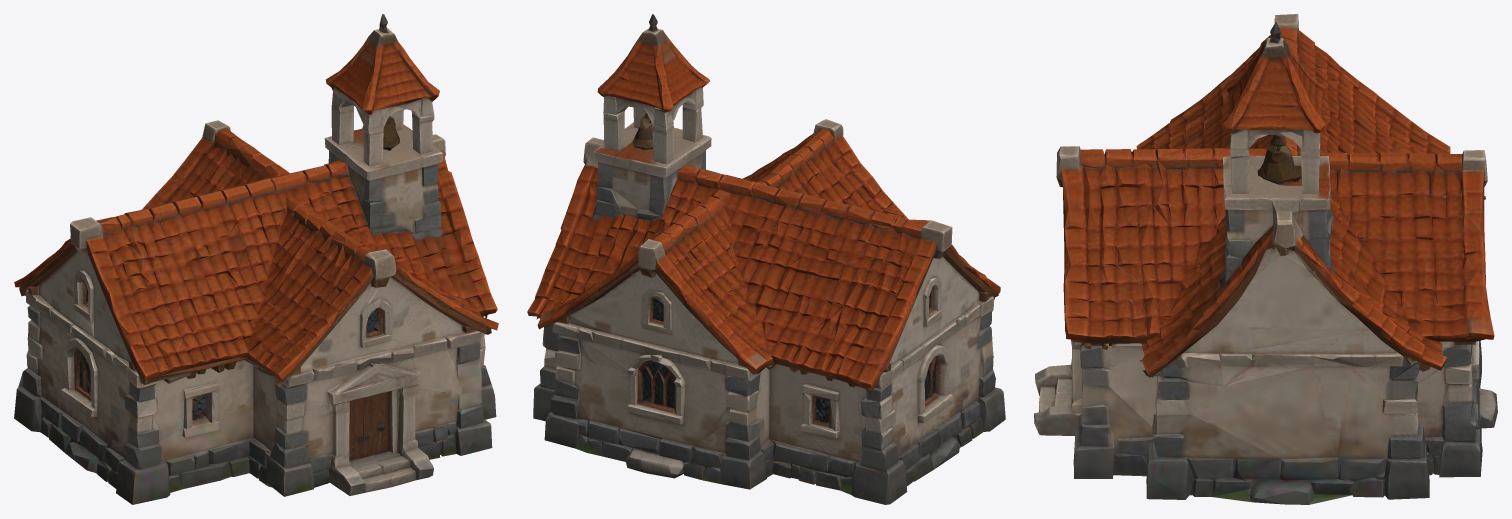
The model's file is university.glb.
The picture shows the model from 3 angles, left to right: view 1: azimuth 30°, elevation 25°; view 2: azimuth 150°, elevation 25°; view 3: azimuth 270°, elevation 25°; orthographic projection. The views are drawn at different scales.
Size of the model in its own units: 1.9 by 1.83 by 1.73.
Materials: 1 (1 with a texture image).
